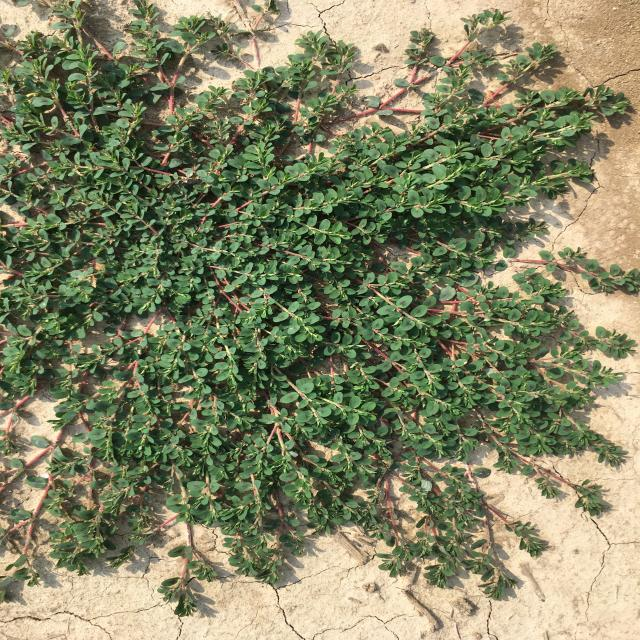SpottedSpurge: (1, 1, 639, 616)
